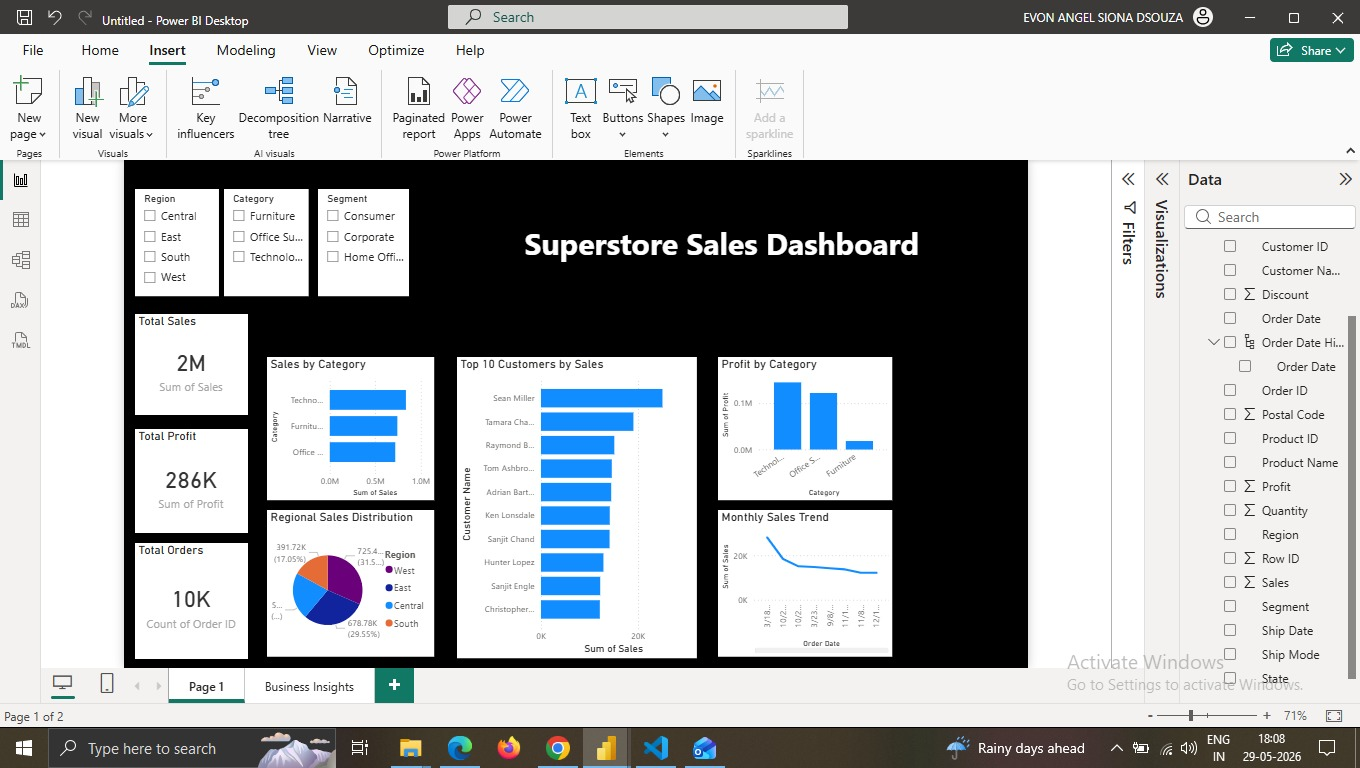

Layout of this report page (visuals, bound fields, positions):
{"tool":"powerbi","page":{"name":"Page 1","canvas":[1280,720],"ordinal":0},"visuals":[{"type":"clusteredBarChart","title":"Sales by Category","fields":{"Category":["Data set.Category"],"Y":["Sum(Data set.Sales)"]},"box":[203.2,279.4,237,203.2],"z":0},{"type":"clusteredColumnChart","title":"Profit by Category","fields":{"Y":["Sum(Data set.Profit)"],"Category":["Data set.Category"]},"box":[841.5,279.4,247.2,203.2],"z":1000},{"type":"pieChart","title":"Regional Sales Distribution","fields":{"Category":["Data set.Region"],"Y":["Sum(Data set.Sales)"]},"box":[203.2,496.1,237,208.3],"z":2000},{"type":"lineChart","title":"Monthly Sales Trend","fields":{"Category":["Data set.Order Date Hierarchy.Order Date"],"Y":["Sum(Data set.Sales)"]},"box":[841.5,496.1,247.2,208.3],"z":3000},{"type":"advanceCardE03760C5AB684758B56AA29F9E6C257B","title":"Total Sales","fields":{"mainMeasure":["Sum(Data set.Sales)"]},"box":[15.2,218.4,159.2,142.2],"z":4000},{"type":"advanceCardE03760C5AB684758B56AA29F9E6C257B","title":"Total Profit","fields":{"mainMeasure":["Sum(Data set.Profit)"]},"box":[15.2,381,159.2,147.3],"z":5000},{"type":"advanceCardE03760C5AB684758B56AA29F9E6C257B","title":"Total Orders","fields":{"mainMeasure":["CountNonNull(Data set.Order ID)"]},"box":[15.2,543.5,159.2,162.5],"z":6000},{"type":"clusteredBarChart","title":"Top 10 Customers by Sales","fields":{"Category":["Data set.Customer Name"],"Y":["Sum(Data set.Sales)"]},"box":[472.4,279.4,340.3,426.7],"z":7000},{"type":"slicer","fields":{"Values":["Data set.Region"]},"box":[15.2,40.6,118.5,152.4],"z":7001},{"type":"slicer","fields":{"Values":["Data set.Category"]},"box":[142.2,40.6,120.2,152.4],"z":7002},{"type":"slicer","fields":{"Values":["Data set.Segment"]},"box":[274.3,40.6,128.7,152.4],"z":7003},{"type":"textbox","box":[562.1,83,704.3,79.6],"z":7004}]}

Visuals, with their boxes on the page's 1280x720 design canvas (x1, y1, x2, y2). These are canvas units, not pixel positions in the 1360x768 screenshot, which may show the page scaled, cropped or inside an application window:
"Sales by Category" clusteredBarChart: bbox(203, 279, 440, 483)
"Profit by Category" clusteredColumnChart: bbox(842, 279, 1089, 483)
"Regional Sales Distribution" pieChart: bbox(203, 496, 440, 704)
"Monthly Sales Trend" lineChart: bbox(842, 496, 1089, 704)
"Total Sales" advanceCardE03760C5AB684758B56AA29F9E6C257B: bbox(15, 218, 174, 361)
"Total Profit" advanceCardE03760C5AB684758B56AA29F9E6C257B: bbox(15, 381, 174, 528)
"Total Orders" advanceCardE03760C5AB684758B56AA29F9E6C257B: bbox(15, 544, 174, 706)
"Top 10 Customers by Sales" clusteredBarChart: bbox(472, 279, 813, 706)
slicer - Data set.Region: bbox(15, 41, 134, 193)
slicer - Data set.Category: bbox(142, 41, 262, 193)
slicer - Data set.Segment: bbox(274, 41, 403, 193)
textbox: bbox(562, 83, 1266, 163)
